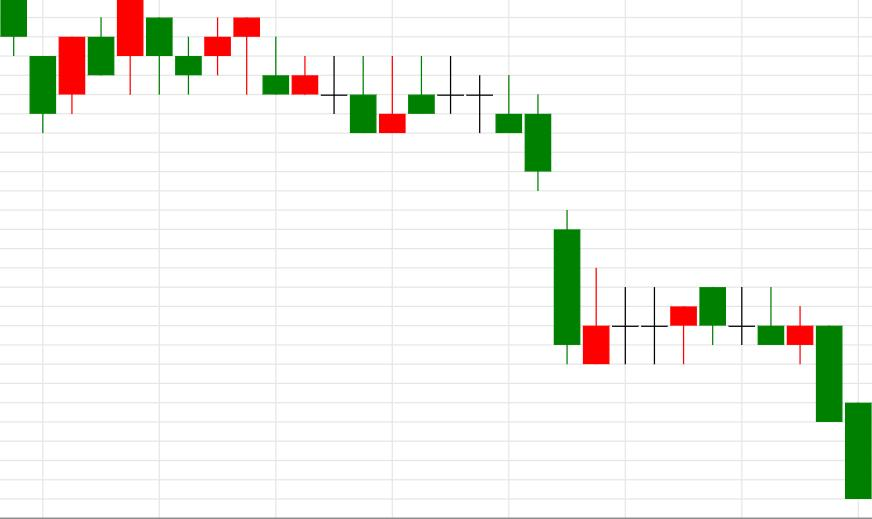inverse_hammer_rise: (437, 55, 609, 364)
